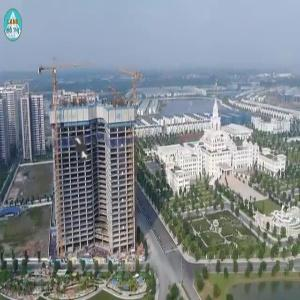drone: (44, 109, 121, 186)
